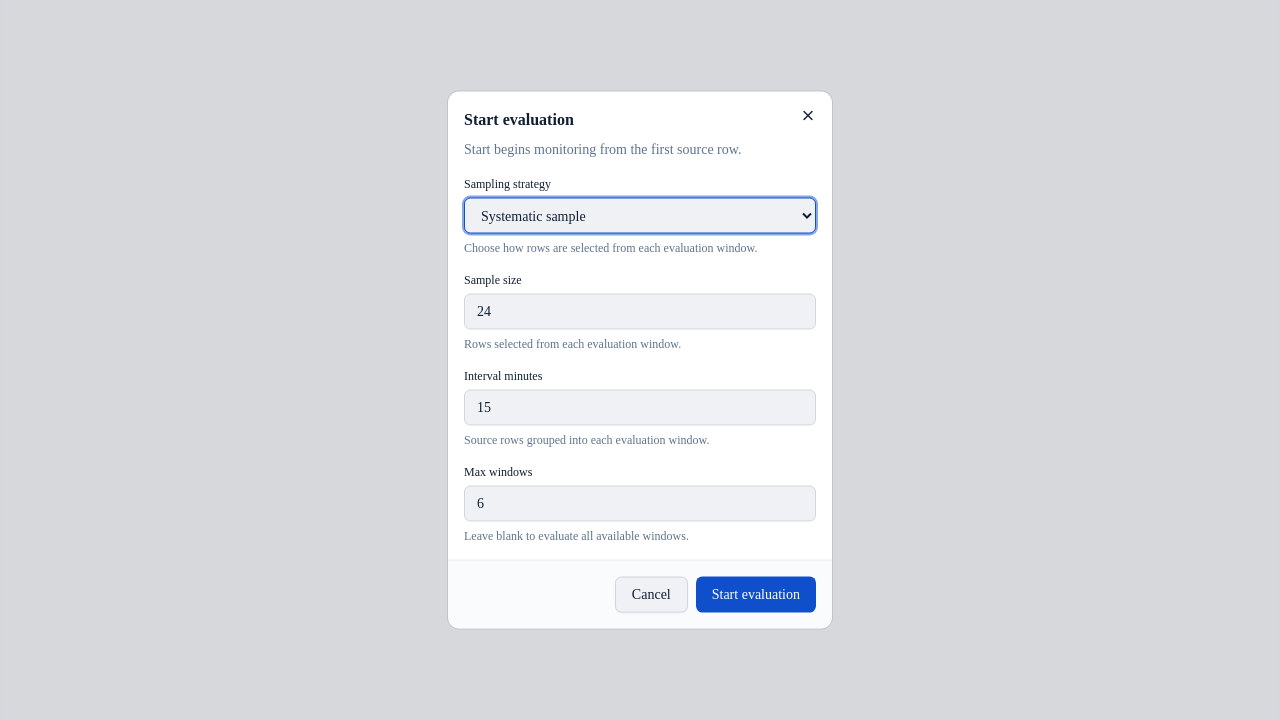
Test: EvaluationConfigDialog › validates Max windows before submission
Select "Systematic sample" in the dropdown labelled "Sampling strategy" at (640, 216), box [464, 198, 816, 234]
Replace the text in the number field labelled "Max windows" with "0" at (640, 504), box [464, 486, 816, 522]
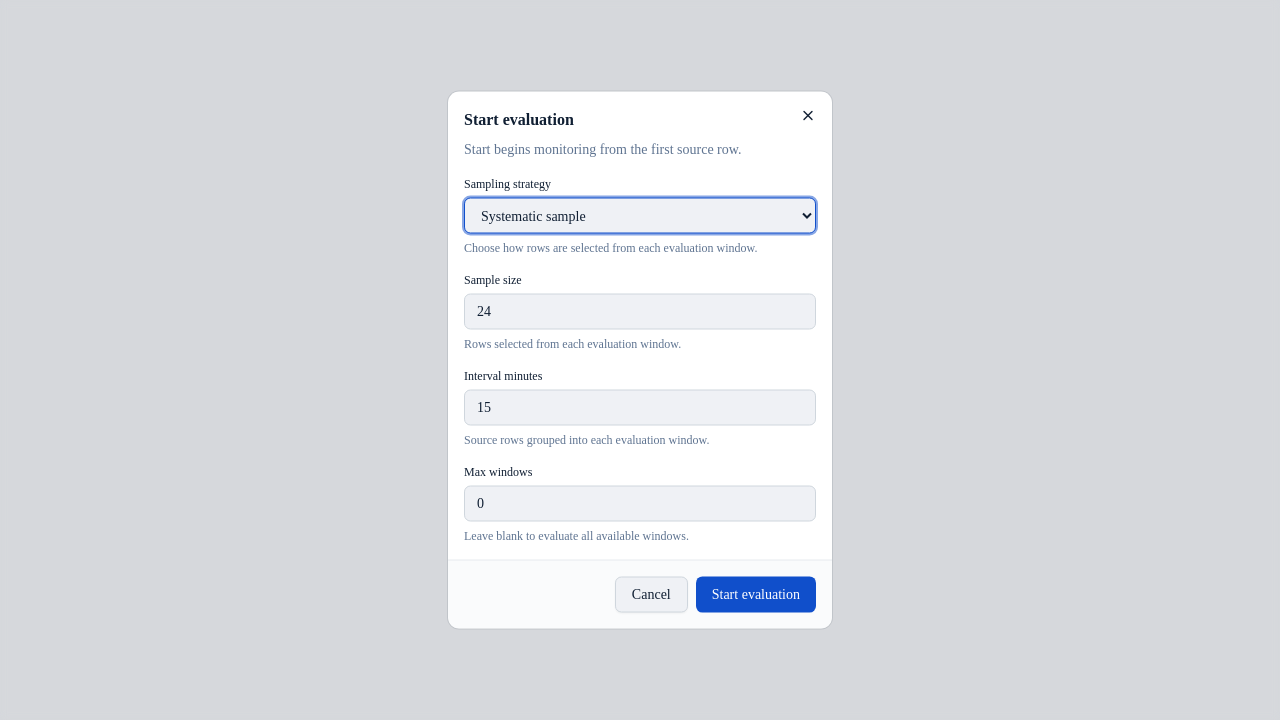
Click the button "Start evaluation".
click(756, 594)  # box [696, 576, 816, 612]
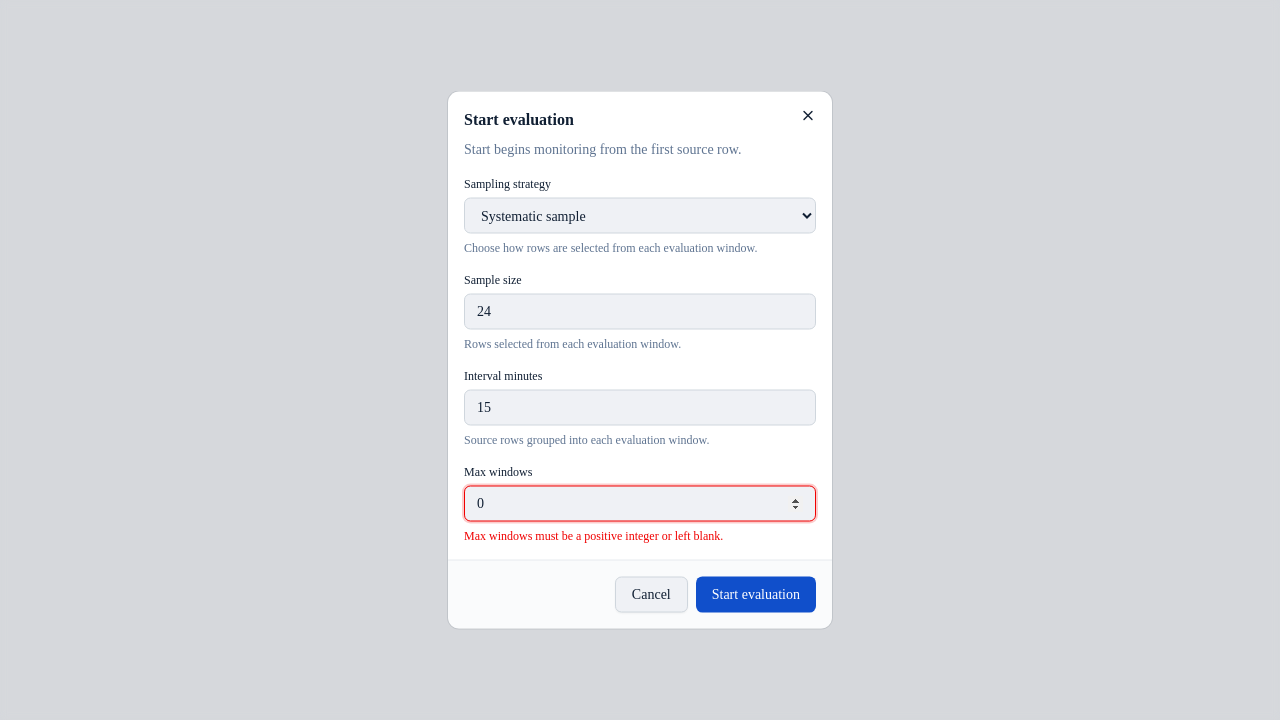
Now the text "Max windows must be a positive integer or left blank." is shown, box [464, 528, 723, 542]
